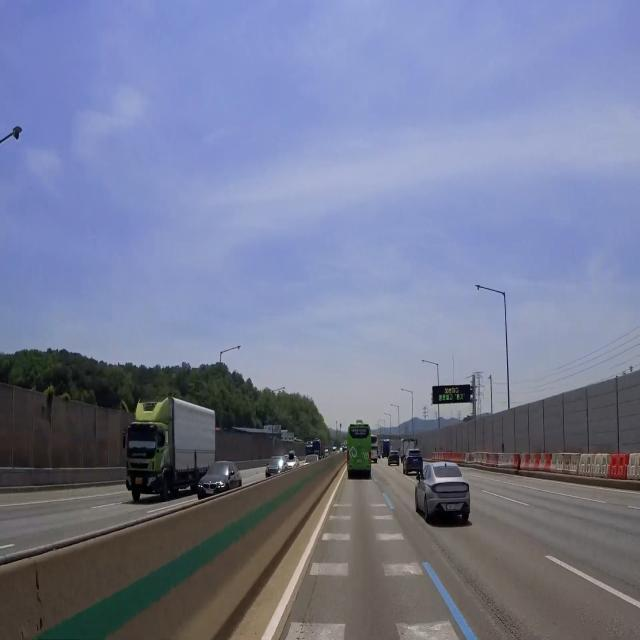car: (442, 499, 464, 513), (132, 474, 146, 492), (204, 485, 216, 499), (353, 454, 364, 468), (410, 456, 422, 466)
